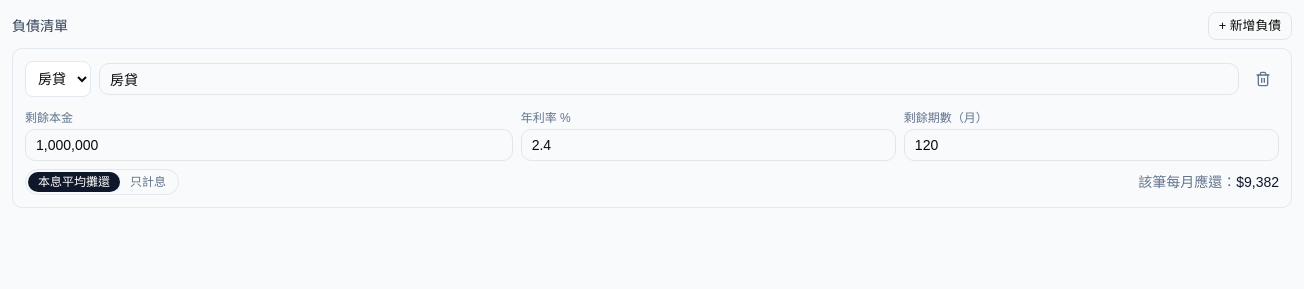
Test case: DebtList › 質押股票市值 › 切換類別為質押後，欄位出現
Expected: the field labelled "質押股票市值" is not shown
Select "質押" in the dropdown named "負債類別" at [58, 79], box [25,61,91,97]
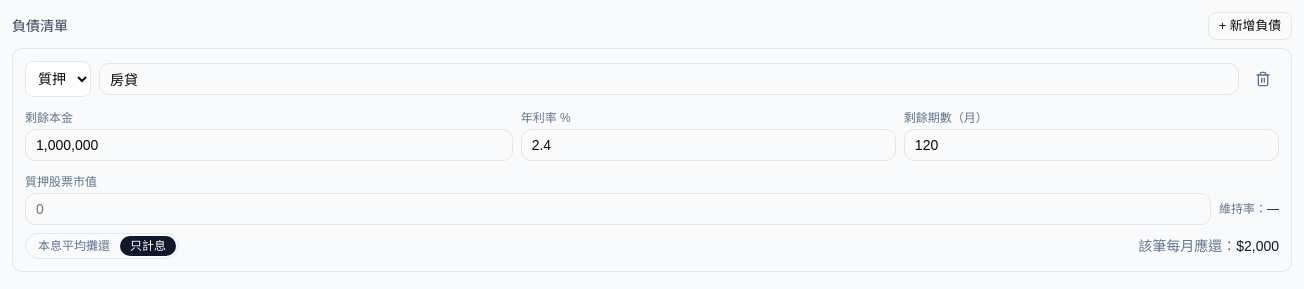
Expected: the field labelled "質押股票市值" is shown, [25,193,1211,225]
